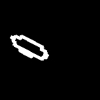chain: (10, 35, 48, 59)
